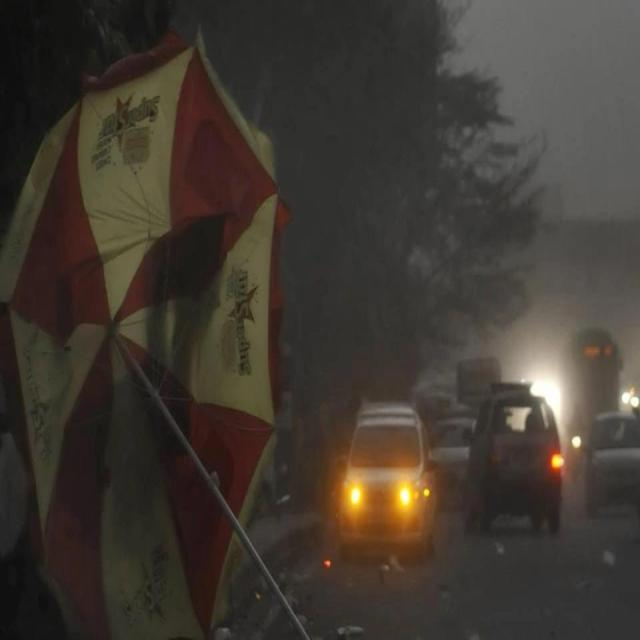Car: (336, 390, 439, 572), (474, 372, 560, 532), (579, 393, 640, 526), (429, 418, 480, 502)
Truck: (554, 284, 621, 458), (455, 315, 498, 422)
